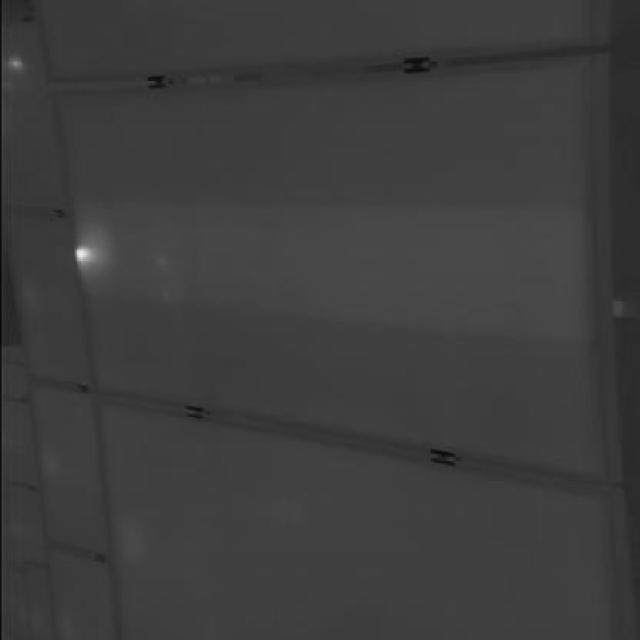hotspot: (68, 241, 95, 274)
